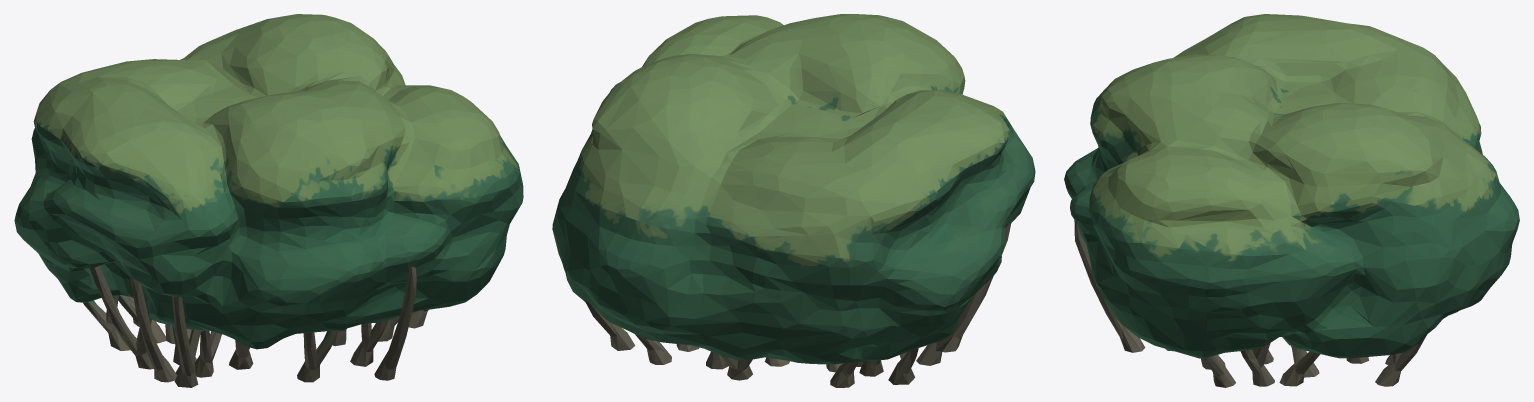
The model's file is shrub_bush.glb.
3 renders of one model, left to right at view 1: azimuth 30°, elevation 25°; view 2: azimuth 150°, elevation 25°; view 3: azimuth 270°, elevation 25°, orthographic. The views are drawn at different scales.
Parts seen in each view (by area): view 1: shrub_bush; view 2: shrub_bush; view 3: shrub_bush.
Boxes of the visible parts, x1,y1,x2,y2 form: shrub_bush: (14, 14, 523, 387); shrub_bush: (552, 14, 1035, 387); shrub_bush: (1064, 14, 1519, 387).
Bounding box in the file's own units: 1.85 × 1.1 × 1.78.
1 material, 1 textured.
